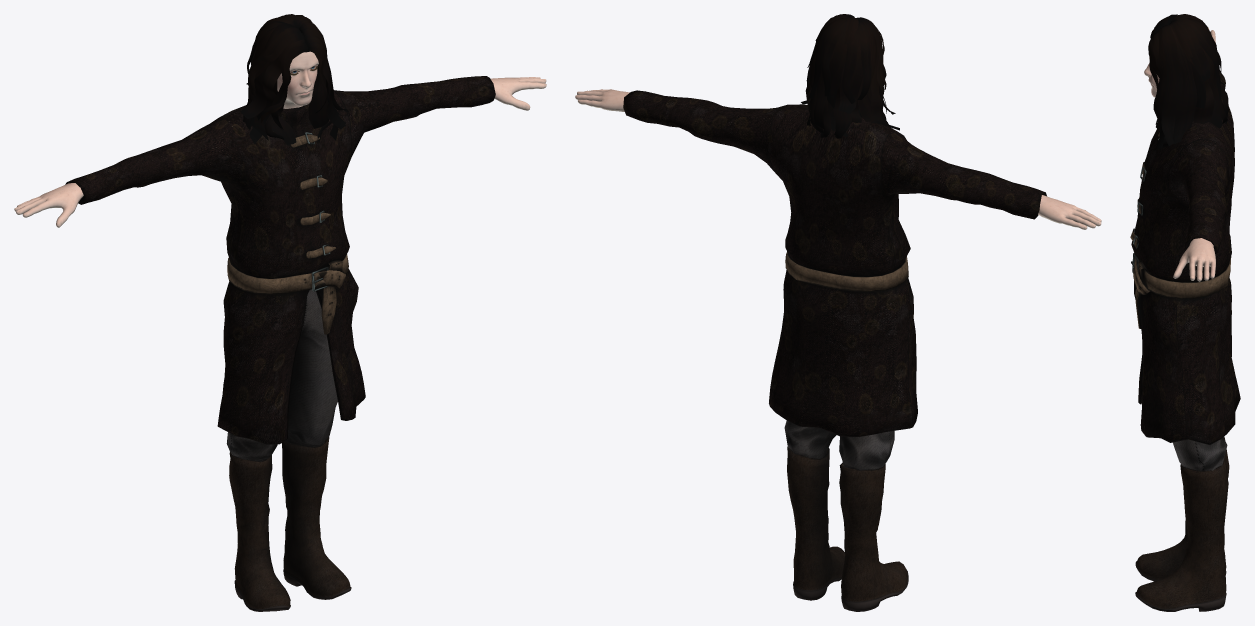
The model's file is grima.fbx.
3 renders of one model, left to right at view 1: azimuth 30°, elevation 25°; view 2: azimuth 150°, elevation 25°; view 3: azimuth 270°, elevation 25°, orthographic.
Parts seen in each view (by area): view 1: grima:Tops, grima:Shoes, grima:Hair, grima:Bottoms, grima:Body; view 2: grima:Tops, grima:Shoes, grima:Hair, grima:Bottoms, grima:Body; view 3: grima:Tops, grima:Shoes, grima:Hair, grima:Body, grima:Bottoms.
Part boxes in pixels (box(x1,y1,x2,y2)): grima:Tops: box(65, 76, 495, 444); grima:Shoes: box(229, 436, 351, 611); grima:Hair: box(240, 14, 348, 144); grima:Bottoms: box(226, 289, 337, 461); grima:Body: box(14, 51, 546, 227); grima:Tops: box(623, 90, 1046, 436); grima:Shoes: box(787, 447, 908, 611); grima:Hair: box(801, 14, 899, 138); grima:Bottoms: box(784, 420, 894, 470); grima:Body: box(575, 89, 1101, 229); grima:Tops: box(1130, 70, 1240, 444); grima:Shoes: box(1135, 437, 1229, 611); grima:Hair: box(1148, 14, 1228, 151); grima:Body: box(1144, 27, 1215, 281); grima:Bottoms: box(1148, 272, 1227, 471).
Size of the model in its own units: 168 by 175 by 30.52.
Materials: 5 (5 with a texture image).
